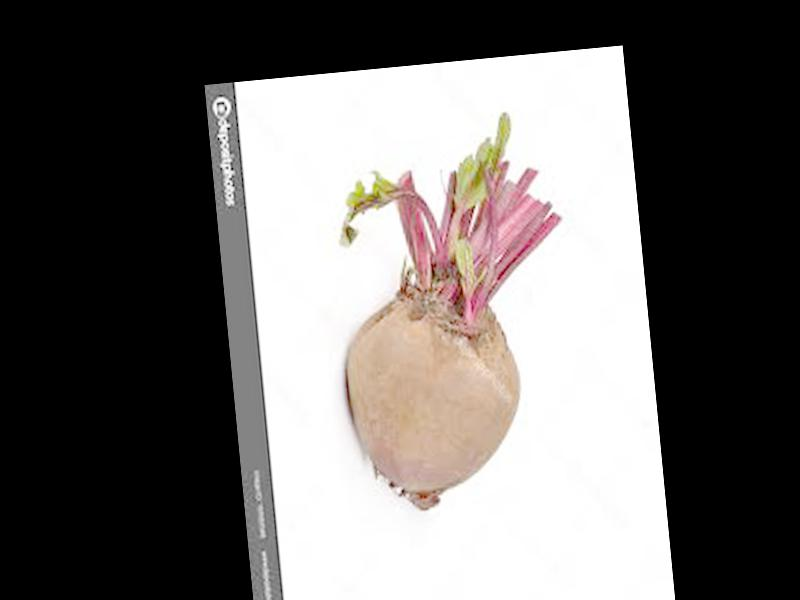Beet: (319, 108, 587, 517)
